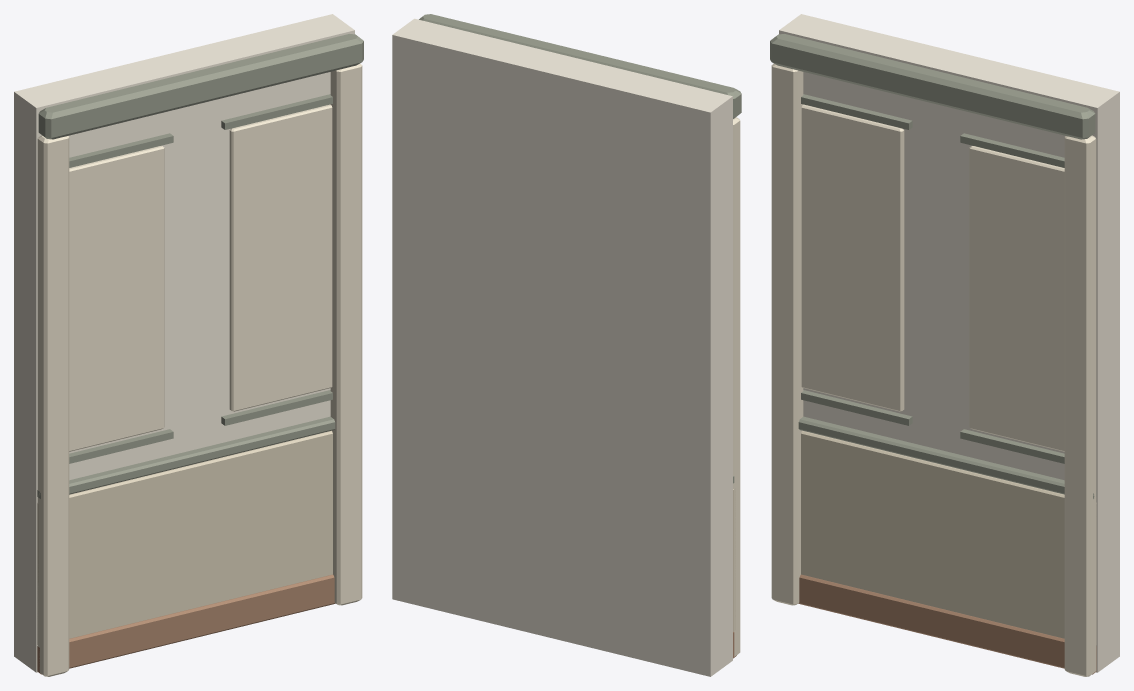
The model's file is lab_wall_panel.glb.
3 views of the same model, side by side, from view 1: azimuth 30°, elevation 25°; view 2: azimuth 150°, elevation 25°; view 3: azimuth 330°, elevation 25° (orthographic).
Visible parts, largest first — view 1: lab_wall_panel; view 2: lab_wall_panel; view 3: lab_wall_panel.
Boxes of the visible parts, <box> form: lab_wall_panel: <box>14,14,363,676</box>; lab_wall_panel: <box>392,14,741,676</box>; lab_wall_panel: <box>770,14,1119,676</box>.
Size of the model in its own units: 2.48 by 4.2 by 0.45.
